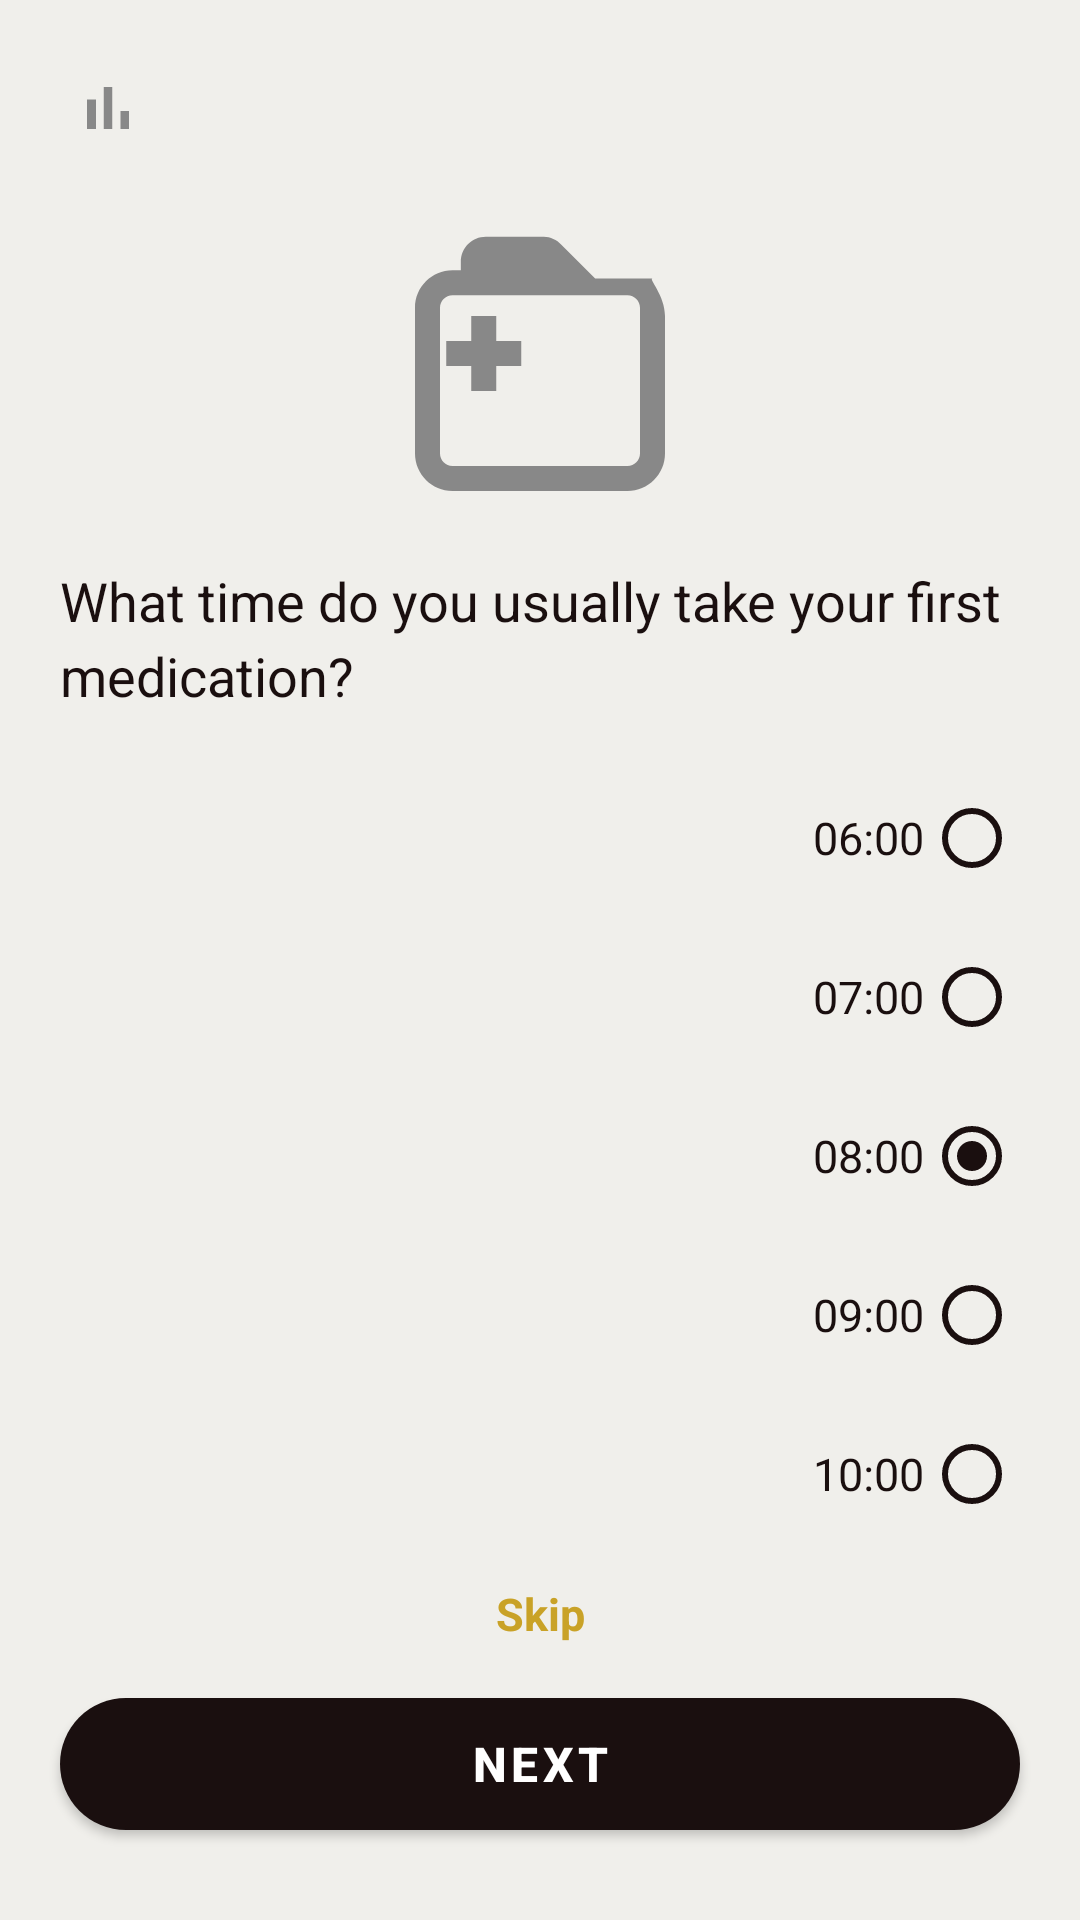

Named icons in this screenshot (1080px×1920px) and their bounding boxes, (x1, y1, x2, y2):
medicine: (415, 236, 665, 491)
progress: (87, 87, 129, 129)
